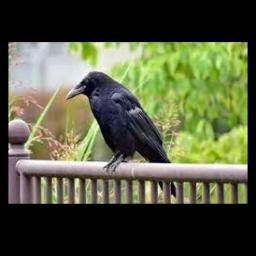Crow: (65, 71, 178, 198)
